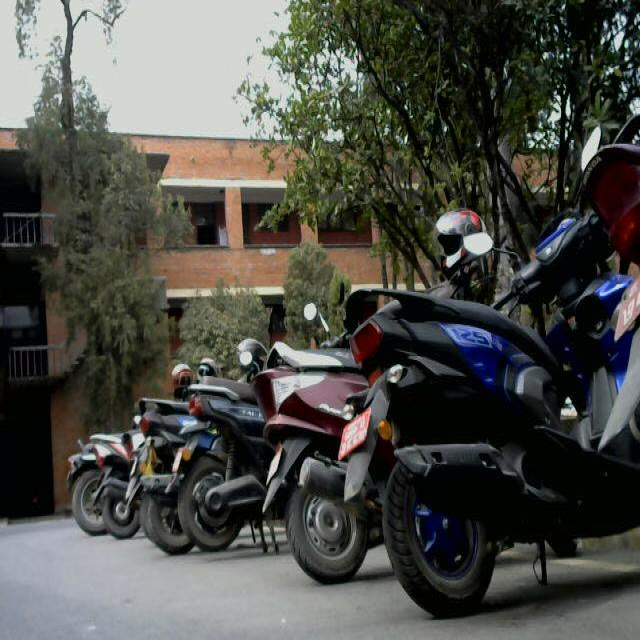Bike: (336, 112, 639, 613), (247, 300, 364, 593), (169, 296, 268, 569), (136, 365, 182, 554), (91, 407, 133, 542), (62, 420, 100, 541)
Buildings: (133, 97, 314, 301)
Road: (0, 528, 427, 640)
trees: (15, 3, 172, 381), (284, 3, 557, 162)
